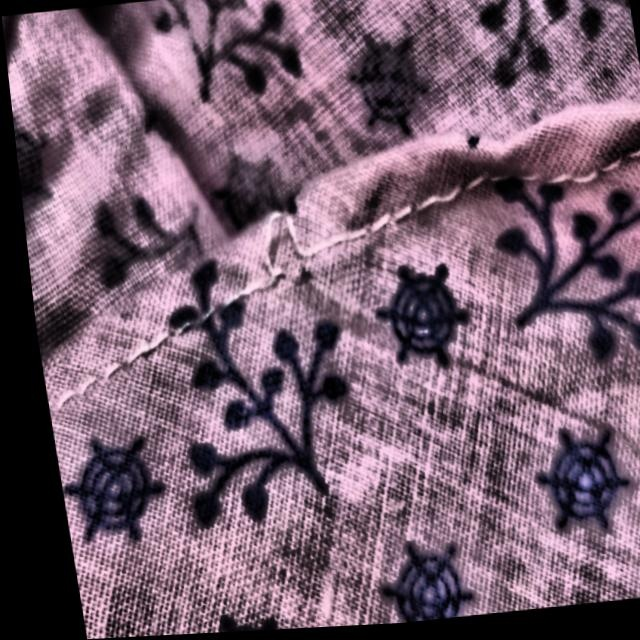Stitch: (193, 148, 368, 342)
